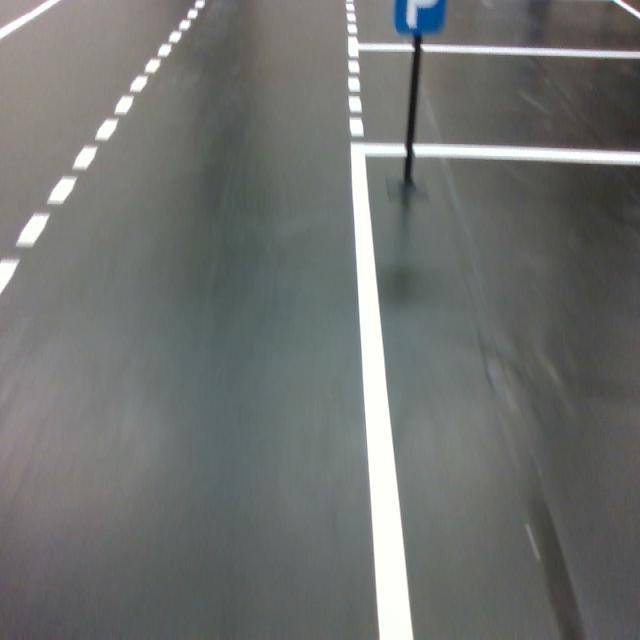parking-sign: (393, 0, 445, 33)
